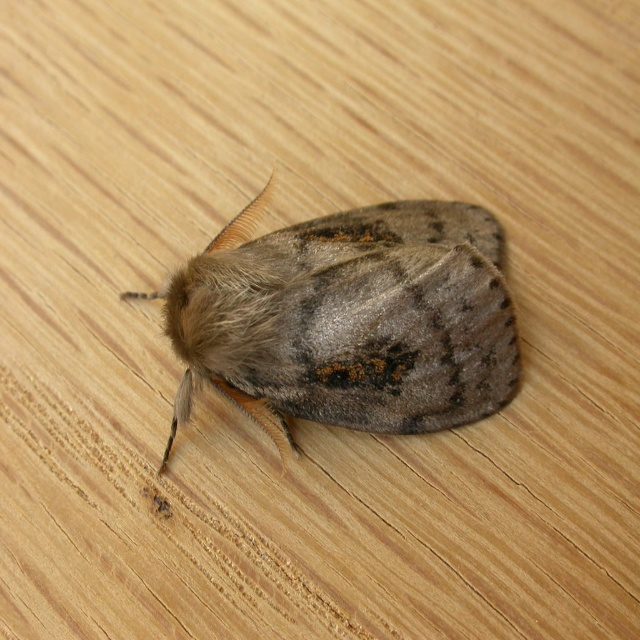Moths and butterflies: (122, 161, 526, 485)
